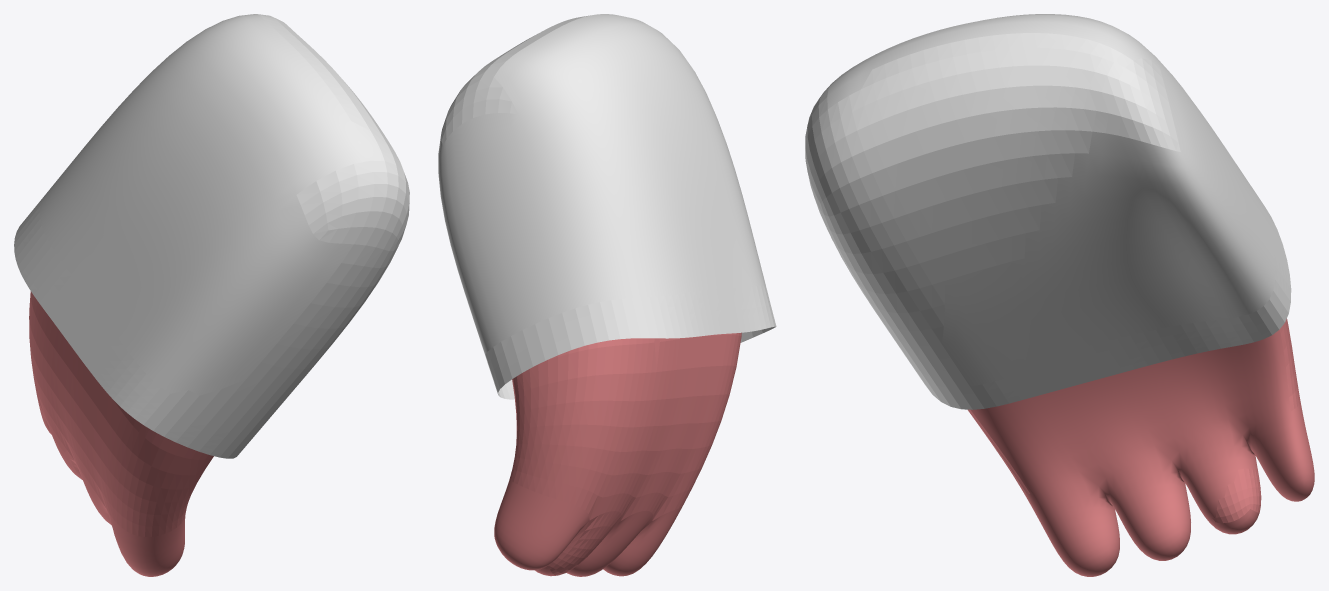
Rendered from arm22.fbx.
3 views of the same model, side by side, from view 1: azimuth 30°, elevation 25°; view 2: azimuth 150°, elevation 25°; view 3: azimuth 270°, elevation 25° (orthographic). The views are drawn at different scales.
Parts seen in each view (by area): view 1: Cube_005, Cube_003; view 2: Cube_005, Cube_003; view 3: Cube_005, Cube_003.
Boxes of the visible parts, x1,y1,x2,y2 form: Cube_005: (14,14,409,458); Cube_003: (29,291,213,576); Cube_005: (438,14,776,399); Cube_003: (494,332,741,576); Cube_005: (805,14,1291,409); Cube_003: (968,318,1314,576).
Size of the model in its own units: 21.79 by 42.58 by 32.83.
